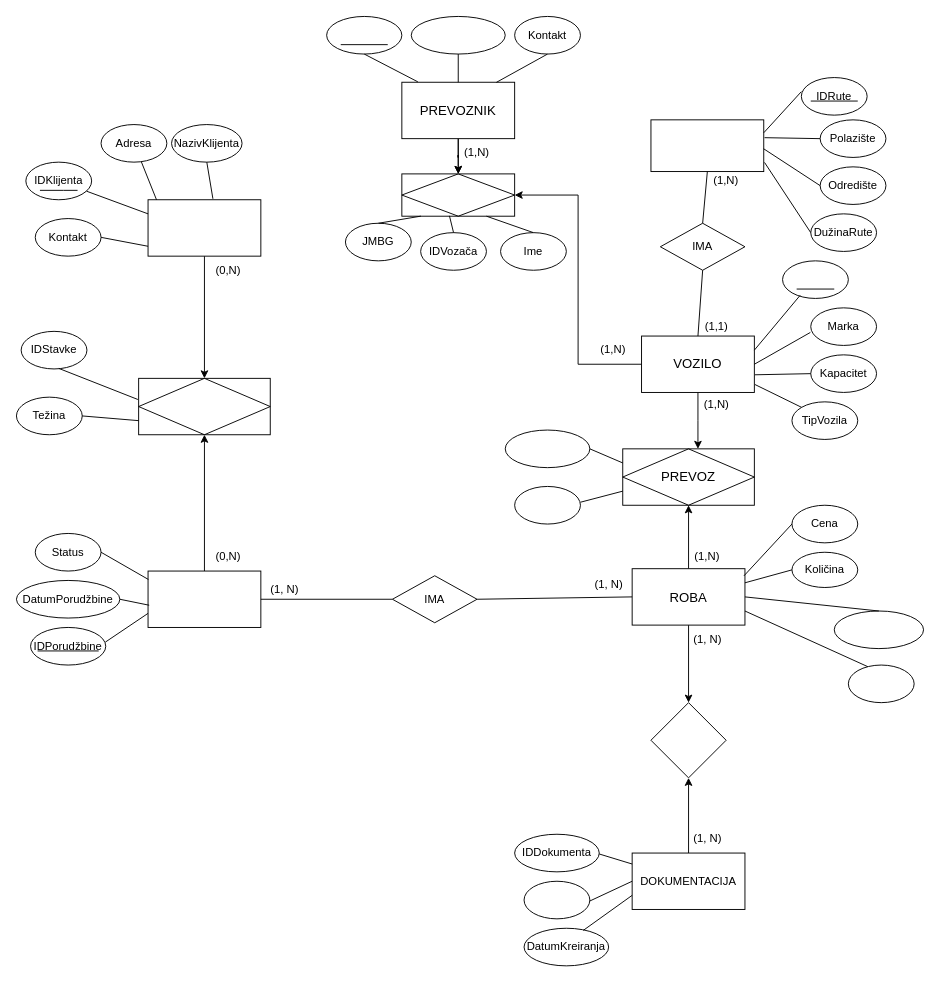
Image size: 940x982. Some labels were removed from this diagram. The shapes that lost their labels are listed below. From the top down, each one's centre as x and y in pixels, then its label:
point (364, 35): IDPrevoznika
point (457, 35): NazivPrevoznika
point (707, 145): RUTA
point (458, 194): VOZAČ
point (204, 227): KLIJENT
point (815, 279): IDVozila
point (204, 406): StavkaPorudžbine
point (547, 448): DatumPrevoza
point (547, 505): Lokacija
point (204, 598): PORUDŽBINA
point (878, 629): KategorijaRobe
point (880, 683): IDRobe
point (688, 740): SADRŽI
point (556, 899): Sadržaj
